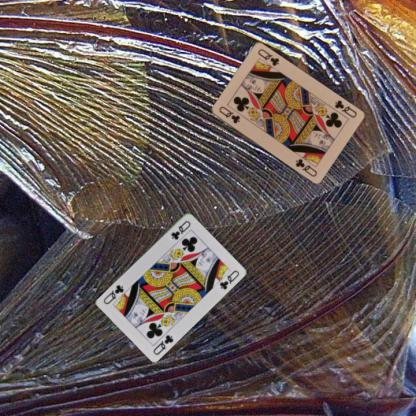Qc: (168, 218, 192, 241), (151, 332, 174, 356), (216, 103, 241, 125), (332, 98, 358, 119)
